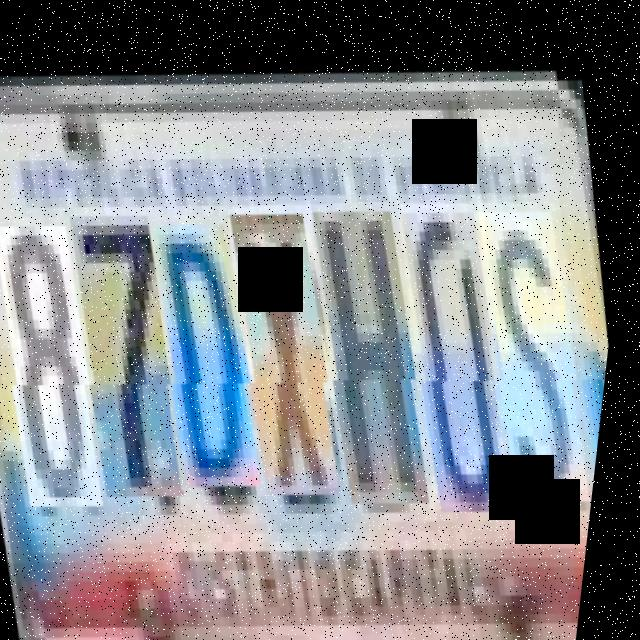0: (375, 177, 549, 506)
7: (46, 194, 221, 506)
8: (0, 208, 139, 518)
D: (134, 200, 294, 492)
H: (288, 181, 464, 502)
S: (454, 173, 623, 493)
X: (208, 187, 374, 496)
